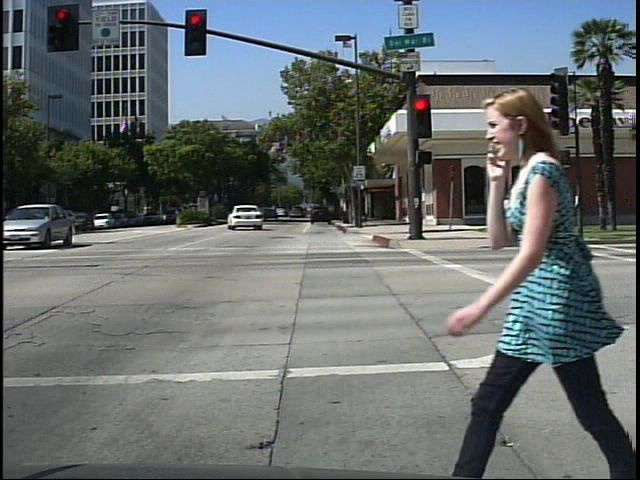person: (459, 76, 631, 480)
